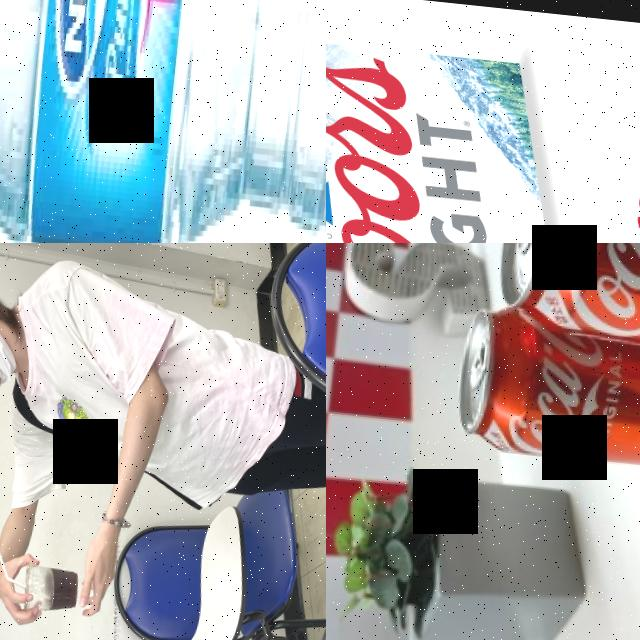bottle: (0, 0, 326, 243)
can: (448, 292, 640, 479), (492, 243, 640, 377)
cup: (21, 560, 80, 617)
